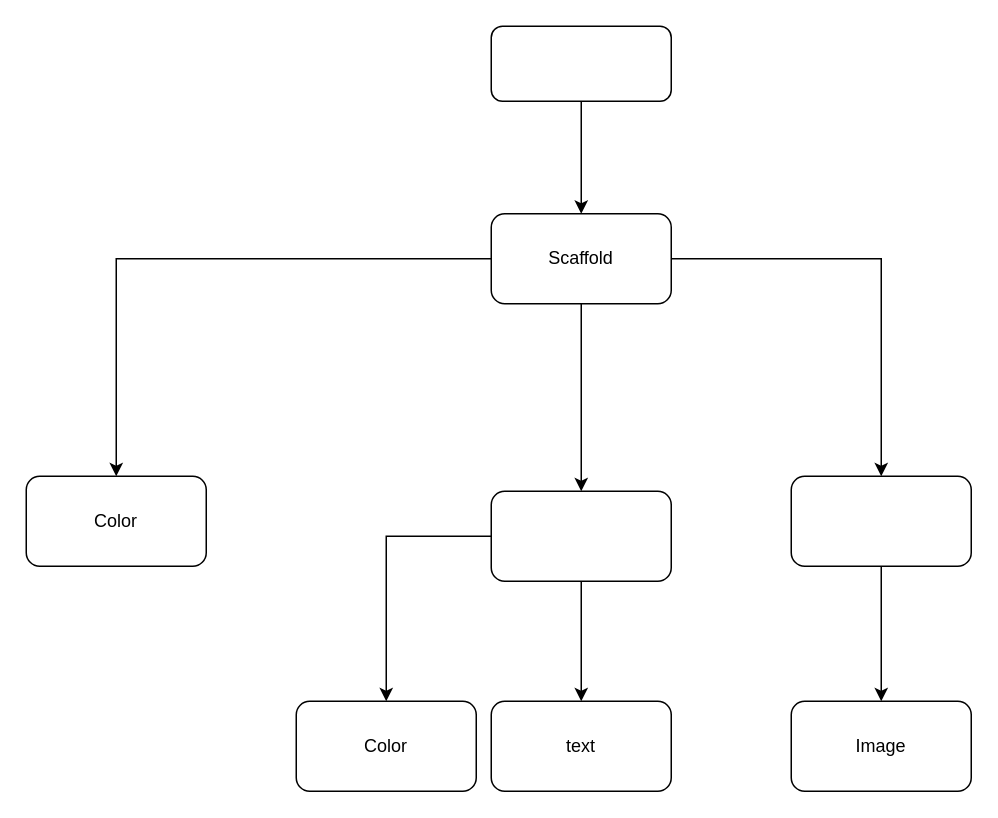
Some shapes in this 998 by 818 pixel diagram are drawn without their labels. Here are the shapes that lost their labels. From the top down, the box of each, then its label:
(490, 25, 671, 101): Materil App
(490, 490, 671, 581): Appbar
(790, 475, 971, 566): Center
